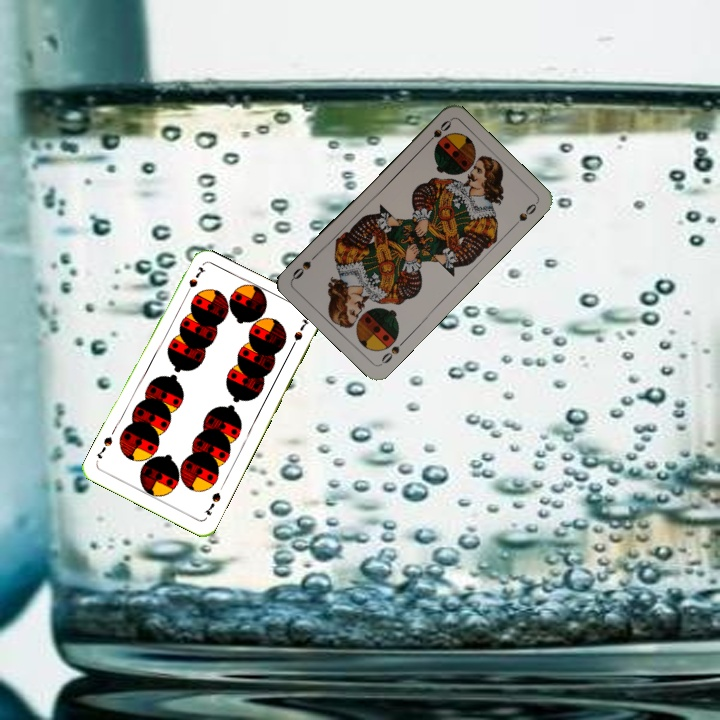S7: (181, 263, 208, 300), (201, 488, 223, 518)
SO: (421, 116, 454, 148), (377, 335, 408, 368)
